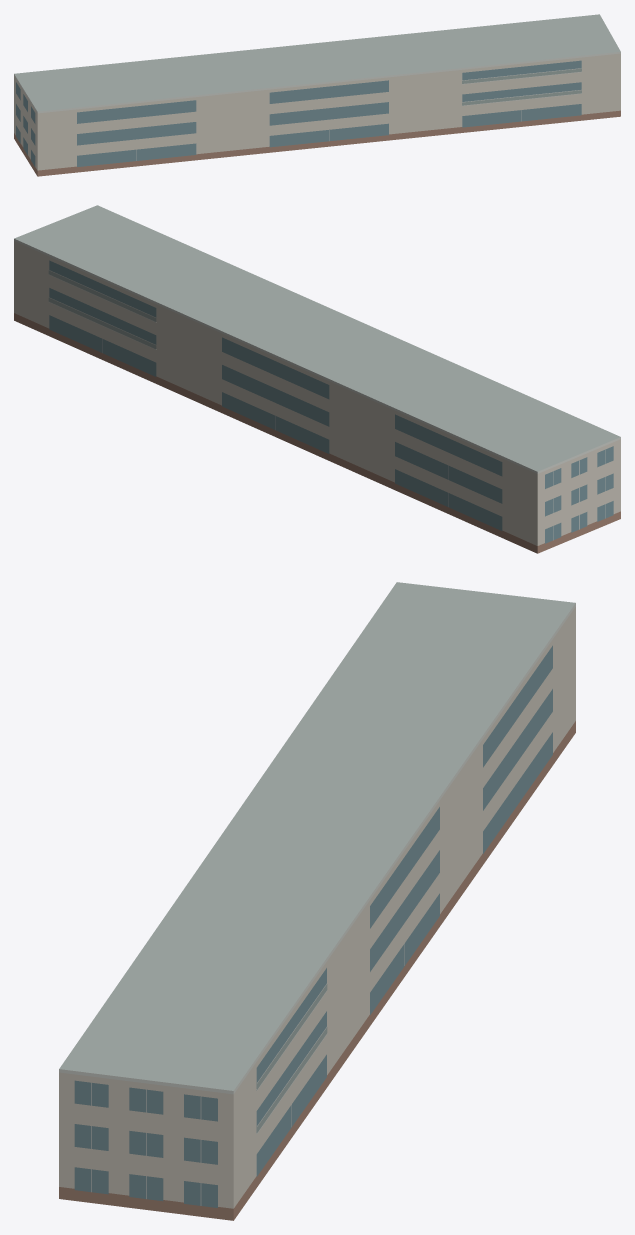
File: survey-upis-32790980.glb
3 renders of one model, top to bottom at view 1: azimuth 30°, elevation 25°; view 2: azimuth 150°, elevation 25°; view 3: azimuth 270°, elevation 25°, orthographic. The views are drawn at different scales.
Parts seen in each view (by area): view 1: survey-upis-32790980.tmp; view 2: survey-upis-32790980.tmp; view 3: survey-upis-32790980.tmp.
Boxes of the visible parts, x1=… form: survey-upis-32790980.tmp: x1=14, y1=14, x2=620, y2=176; survey-upis-32790980.tmp: x1=14, y1=205, x2=620, y2=553; survey-upis-32790980.tmp: x1=59, y1=582, x2=575, y2=1220.
Size of the model in its own units: 76.92 by 9.15 by 33.02.
